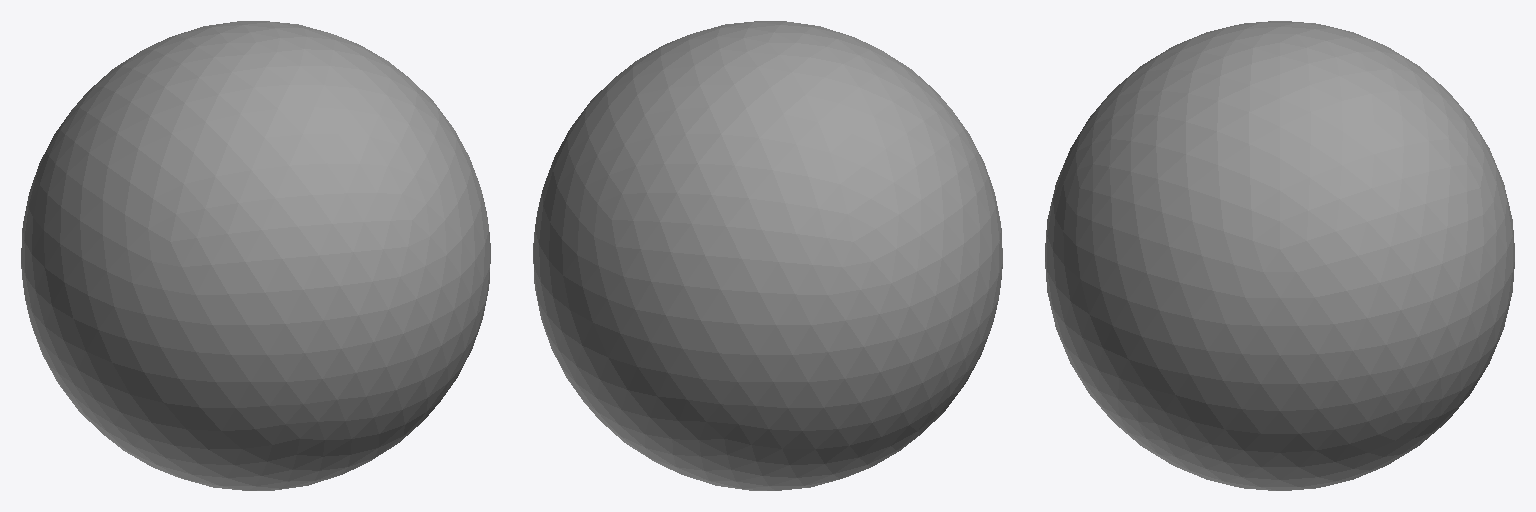
File: PlanetX.obj
The picture shows the model from 3 angles: view 1: azimuth 30°, elevation 25°; view 2: azimuth 150°, elevation 25°; view 3: azimuth 270°, elevation 25°; orthographic projection.
Visible parts, largest first — view 1: Icosphere; view 2: Icosphere; view 3: Icosphere.
Part boxes in pixels (x1,y1,x2,y2): Icosphere: (21, 21, 490, 490); Icosphere: (533, 21, 1002, 490); Icosphere: (1045, 21, 1514, 490).
Size of the model in its own units: 2 by 2 by 2.